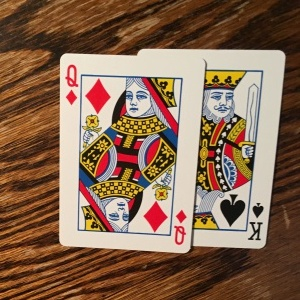card: (60, 55, 204, 252), (190, 50, 286, 250)
